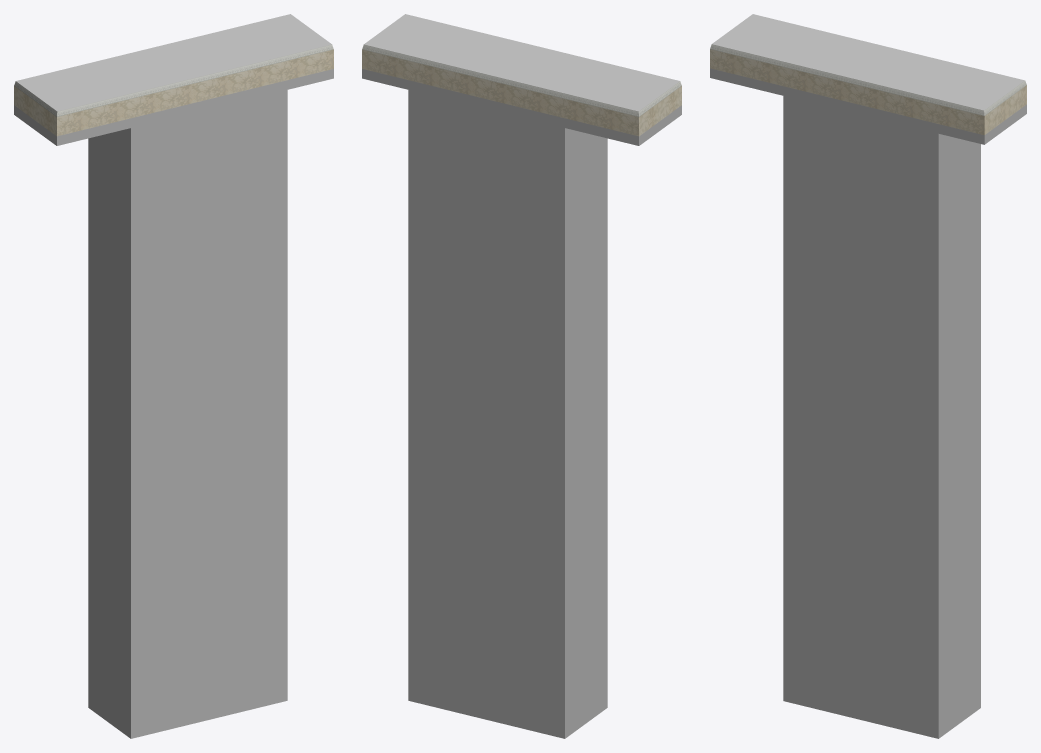
The model's file is Map2b.obj.
The picture shows the model from 3 angles, left to right: view 1: azimuth 30°, elevation 25°; view 2: azimuth 150°, elevation 25°; view 3: azimuth 330°, elevation 25°; orthographic projection.
Bounding box in the file's own units: 59.8 × 133 × 16.
